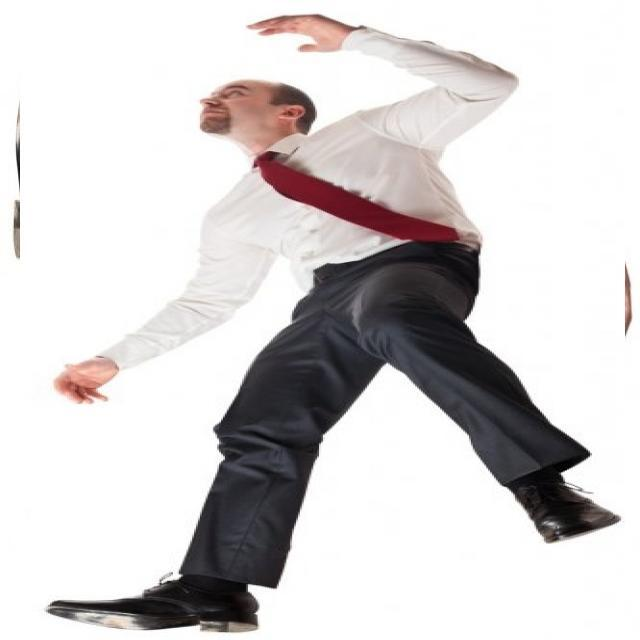NotFall: (35, 0, 625, 640)
